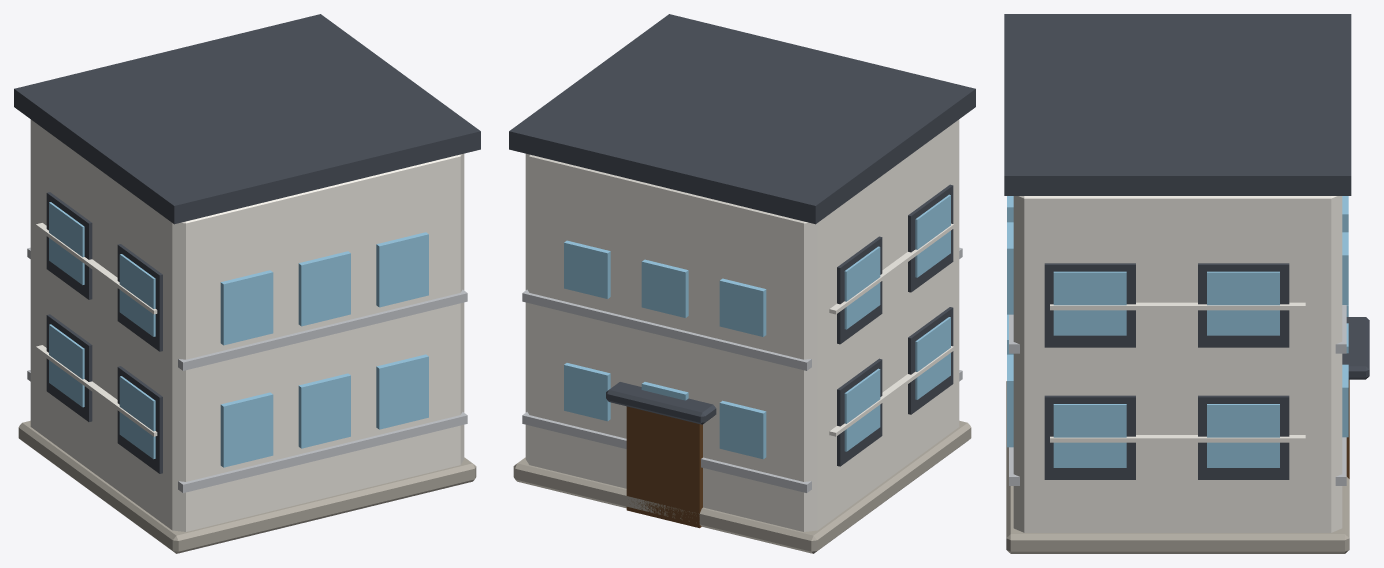
Rendered from office.glb.
3 views of the same model, side by side, from view 1: azimuth 30°, elevation 25°; view 2: azimuth 150°, elevation 25°; view 3: azimuth 270°, elevation 25° (orthographic). The views are drawn at different scales.
Parts seen in each view (by area): view 1: office; view 2: office; view 3: office.
Part boxes in pixels (x1,y1,x2,y2): office: (14,14,480,553); office: (509,14,975,553); office: (1004,14,1369,553).
Bounding box in the file's own units: 2.1 × 2.3 × 2.
1 material, 1 textured.
